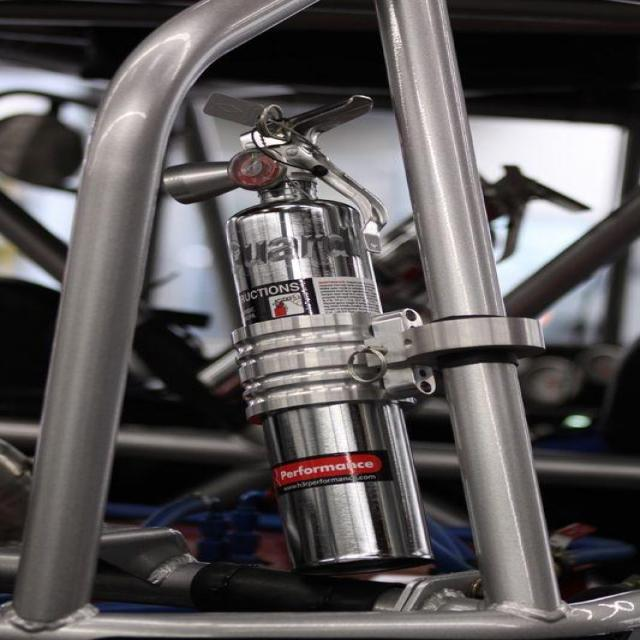fire_extinguisher: (148, 75, 445, 578)
